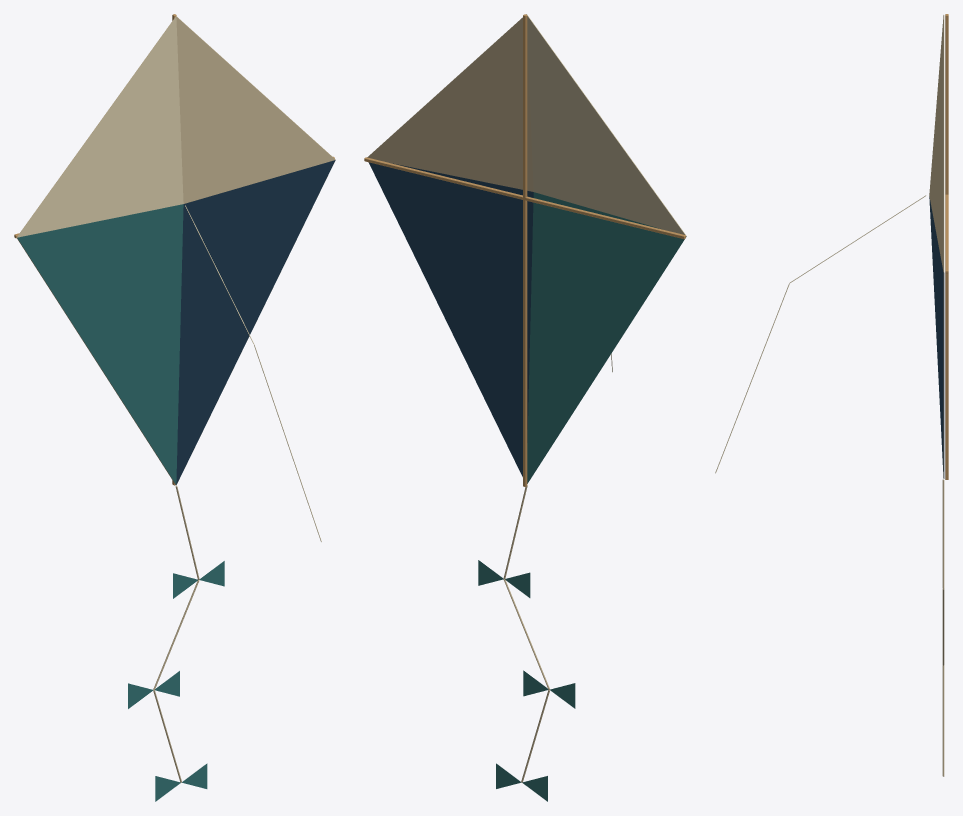
The model's file is b17_diamond_flying_kite.glb.
3 views of the same model, side by side, from view 1: azimuth 30°, elevation 25°; view 2: azimuth 150°, elevation 25°; view 3: azimuth 270°, elevation 25° (orthographic).
Visible parts, largest first — view 1: b17_diamond_flying_kite; view 2: b17_diamond_flying_kite; view 3: b17_diamond_flying_kite.
Part boxes in pixels (x1,y1,x2,y2): b17_diamond_flying_kite: [14, 14, 335, 801]; b17_diamond_flying_kite: [364, 14, 686, 801]; b17_diamond_flying_kite: [715, 14, 948, 776].
Size of the model in its own units: 0.64 by 1.5 by 0.4094.
